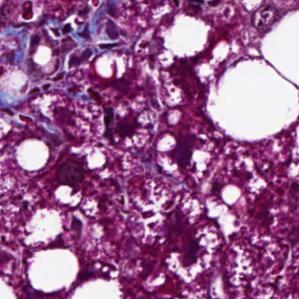inflammation: (45, 10, 123, 58), (100, 102, 162, 150)
